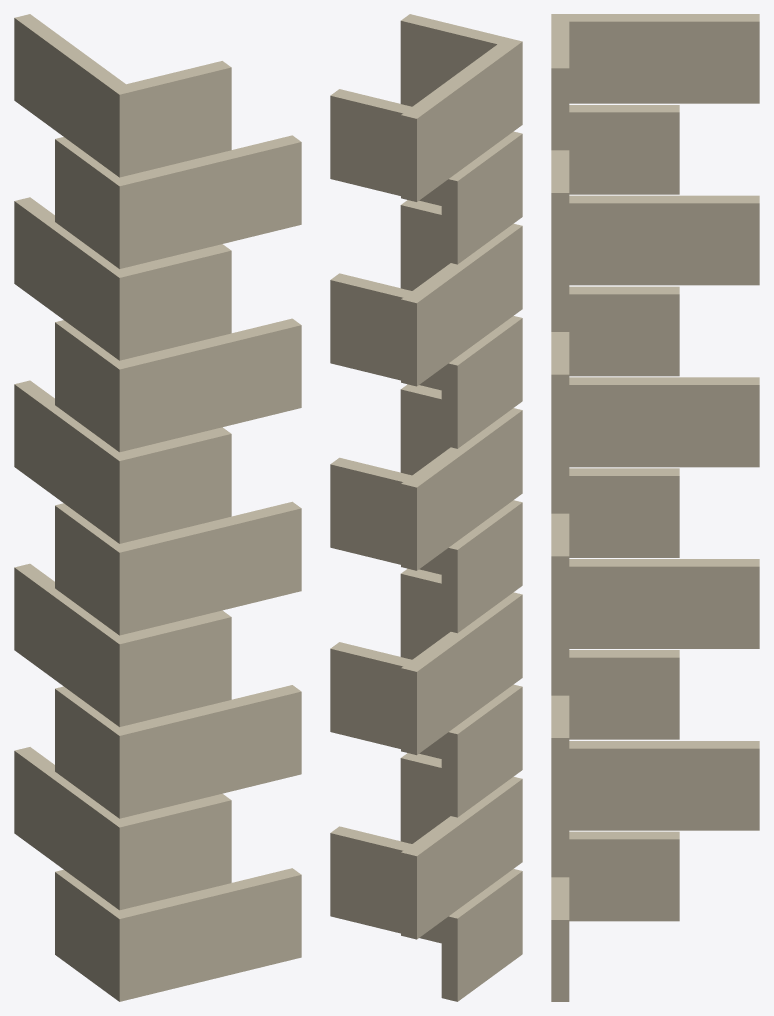
Rendered from quoins.glb.
3 views of the same model, side by side, from view 1: azimuth 30°, elevation 25°; view 2: azimuth 150°, elevation 25°; view 3: azimuth 270°, elevation 25° (orthographic).
Visible parts, largest first — view 1: quoins; view 2: quoins; view 3: quoins.
Boxes of the visible parts, box(x1,y1,x2,y2) form: quoins: box(14, 14, 301, 1001); quoins: box(330, 14, 522, 1001); quoins: box(551, 14, 759, 1001).
Bounding box in the file's own units: 0.52 × 2.48 × 0.52.
1 material, 1 textured.
